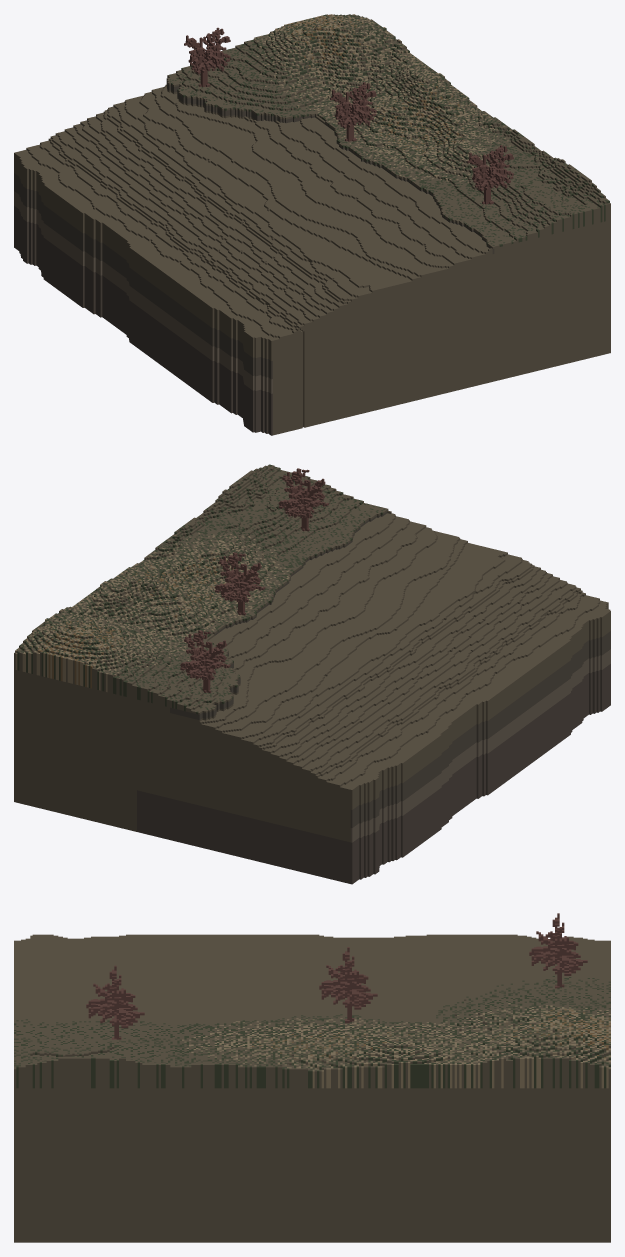
The model's file is Combined Desert(2)-13-tile 11 - above water 3.obj.
The picture shows the model from 3 angles, top to bottom: view 1: azimuth 30°, elevation 25°; view 2: azimuth 150°, elevation 25°; view 3: azimuth 270°, elevation 25°; orthographic projection. The views are drawn at different scales.
Visible parts, largest first — view 1: tile 11 - above water 3; view 2: tile 11 - above water 3; view 3: tile 11 - above water 3.
Boxes of the visible parts, <box> form: tile 11 - above water 3: <box>14,14,610,435</box>; tile 11 - above water 3: <box>14,464,610,884</box>; tile 11 - above water 3: <box>14,913,610,1242</box>.
Bounding box in the file's own units: 20.1 × 10.5 × 25.6.
1 material, 1 textured.
